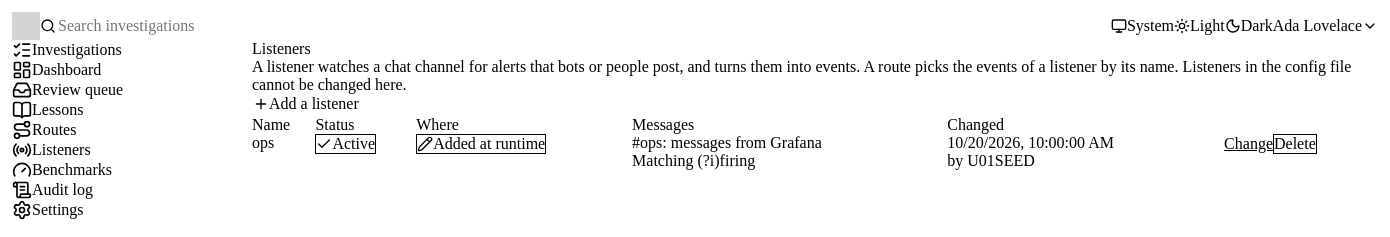
Scenario: the listeners page › says why a delete was refused
Click the button with aria-label "Delete listener ops" at (1295, 144), box [1273,134,1317,154]
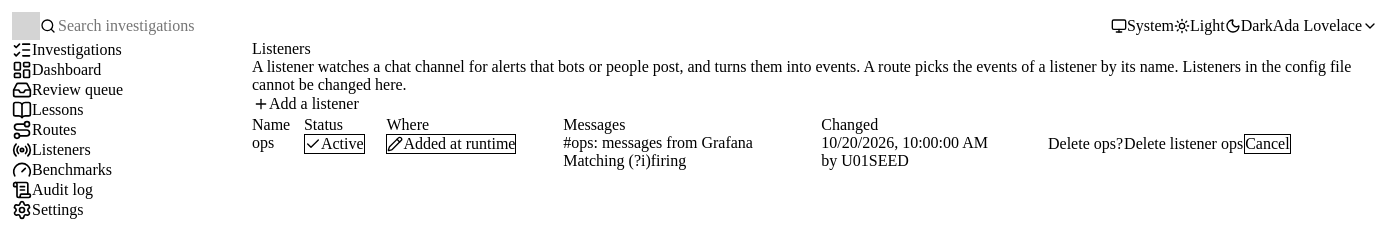
Click the button "Delete listener ops" at (1184, 144), box [1123,134,1244,154]
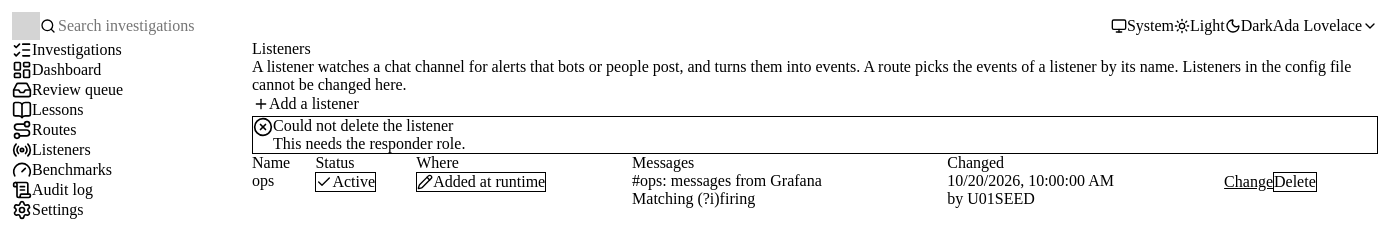
Now the heading "Could not delete the listener" is shown, box [273,117,453,135]
Now the text "This needs the responder role." is shown, box [273,135,465,153]
